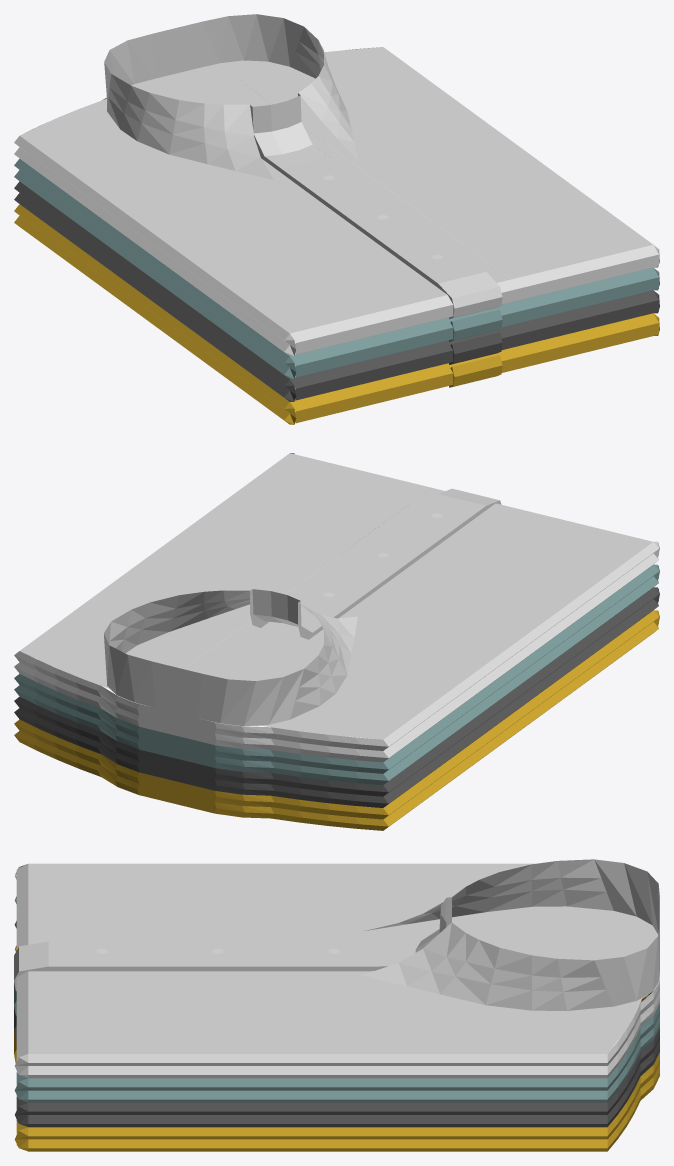
Rendered from shirts.fbx.
The picture shows the model from 3 angles, top to bottom: view 1: azimuth 30°, elevation 25°; view 2: azimuth 150°, elevation 25°; view 3: azimuth 270°, elevation 25°; orthographic projection. The views are drawn at different scales.
Visible parts, largest first — view 1: Component_2_1, Component_8_1, Component_7_1, Component_9_1, Component_10_1, Component_11_1, Component_12_1; view 2: Component_2_1, Component_7_1, Component_8_1, Component_9_1; view 3: Component_2_1, Component_8_1, Component_9_1, Component_7_1.
Boxes of the visible parts, box(x1,y1,x2,y2) form: Component_2_1: box(14, 14, 659, 356); Component_8_1: box(14, 181, 659, 401); Component_7_1: box(14, 158, 659, 379); Component_9_1: box(14, 204, 659, 424); Component_10_1: box(449, 355, 502, 387); Component_11_1: box(449, 332, 502, 364); Component_12_1: box(449, 309, 502, 341); Component_2_1: box(14, 453, 659, 762); Component_7_1: box(14, 564, 659, 785); Component_8_1: box(14, 587, 659, 807); Component_9_1: box(14, 610, 659, 830); Component_2_1: box(14, 859, 659, 1078); Component_8_1: box(14, 921, 659, 1127); Component_9_1: box(14, 945, 659, 1151); Component_7_1: box(14, 896, 659, 1102).
Bounding box in the file's own units: 0.2364 × 0.0827 × 0.3293.
